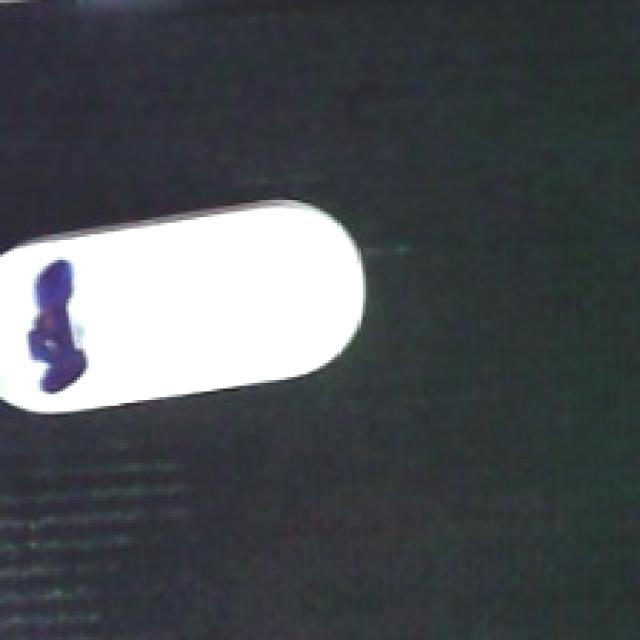defected: (0, 197, 371, 417)
